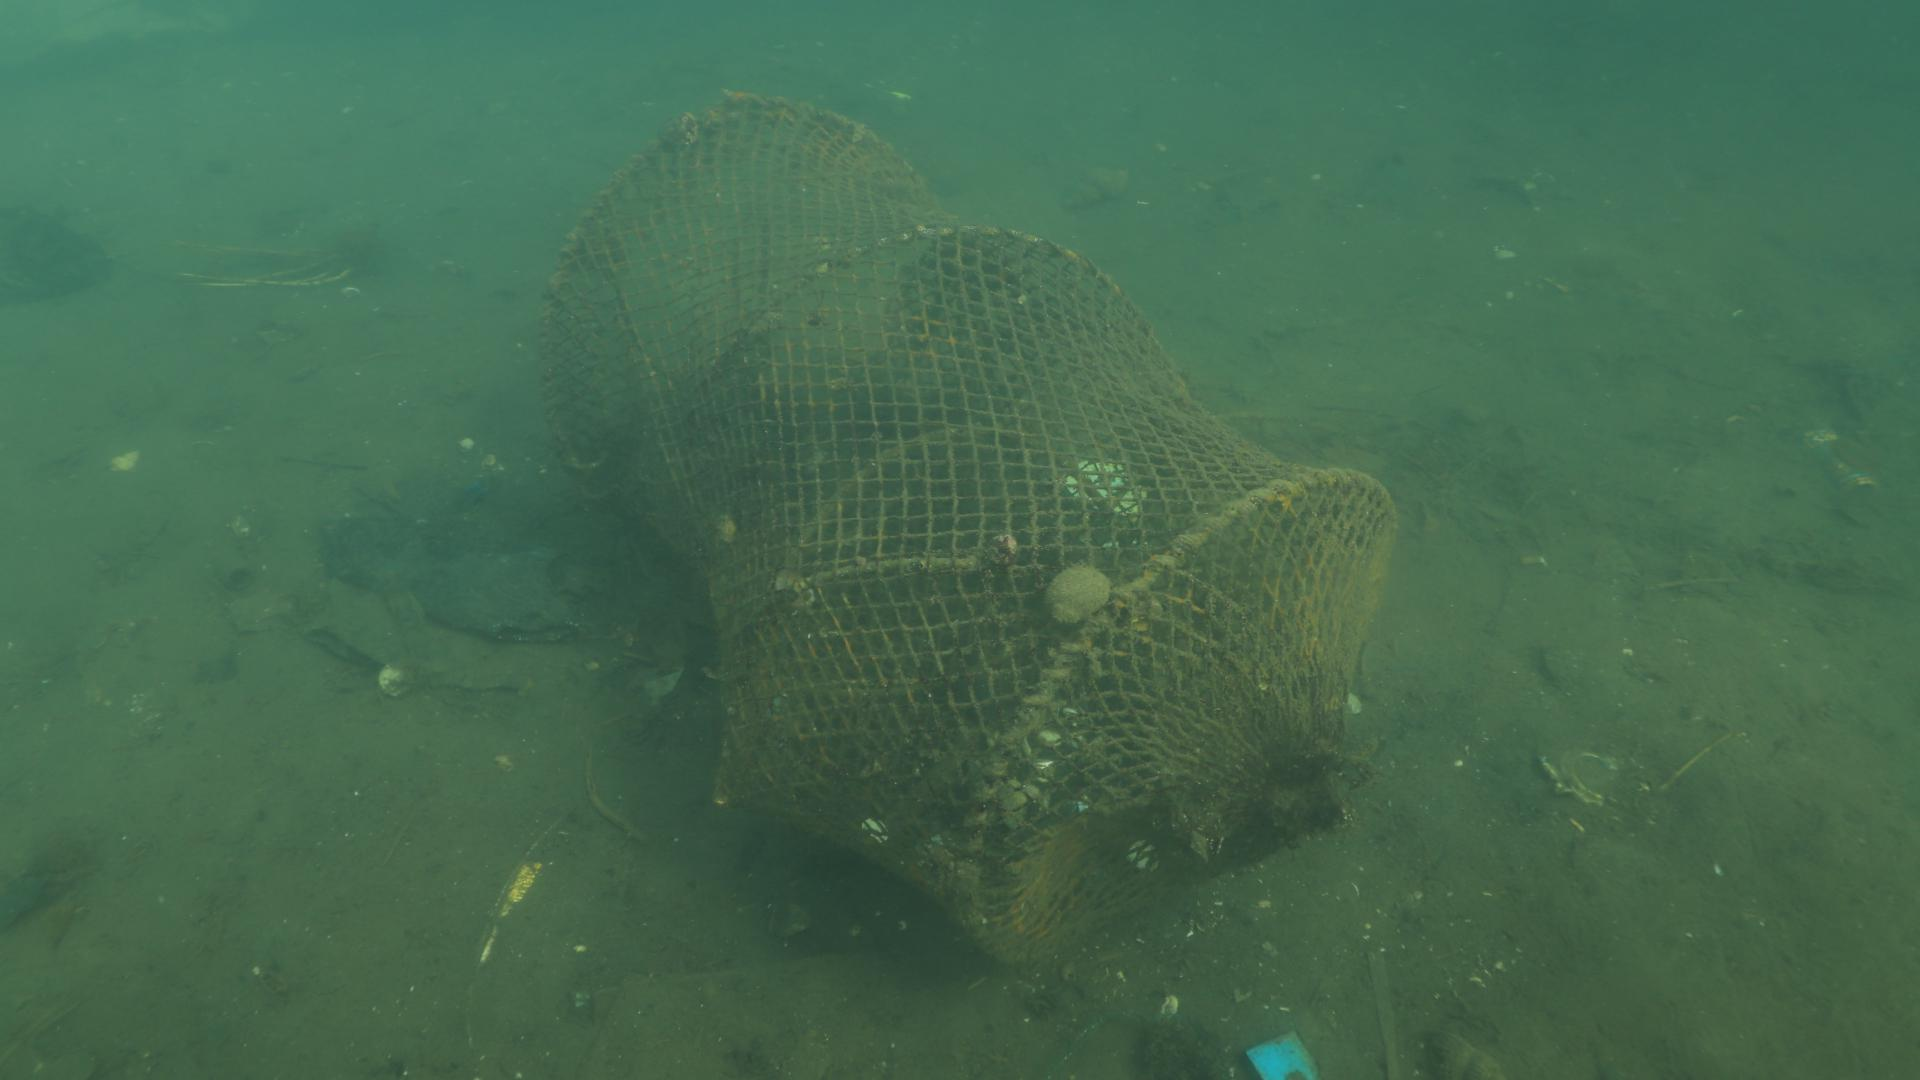spring fish trap: (535, 86, 1396, 963)
